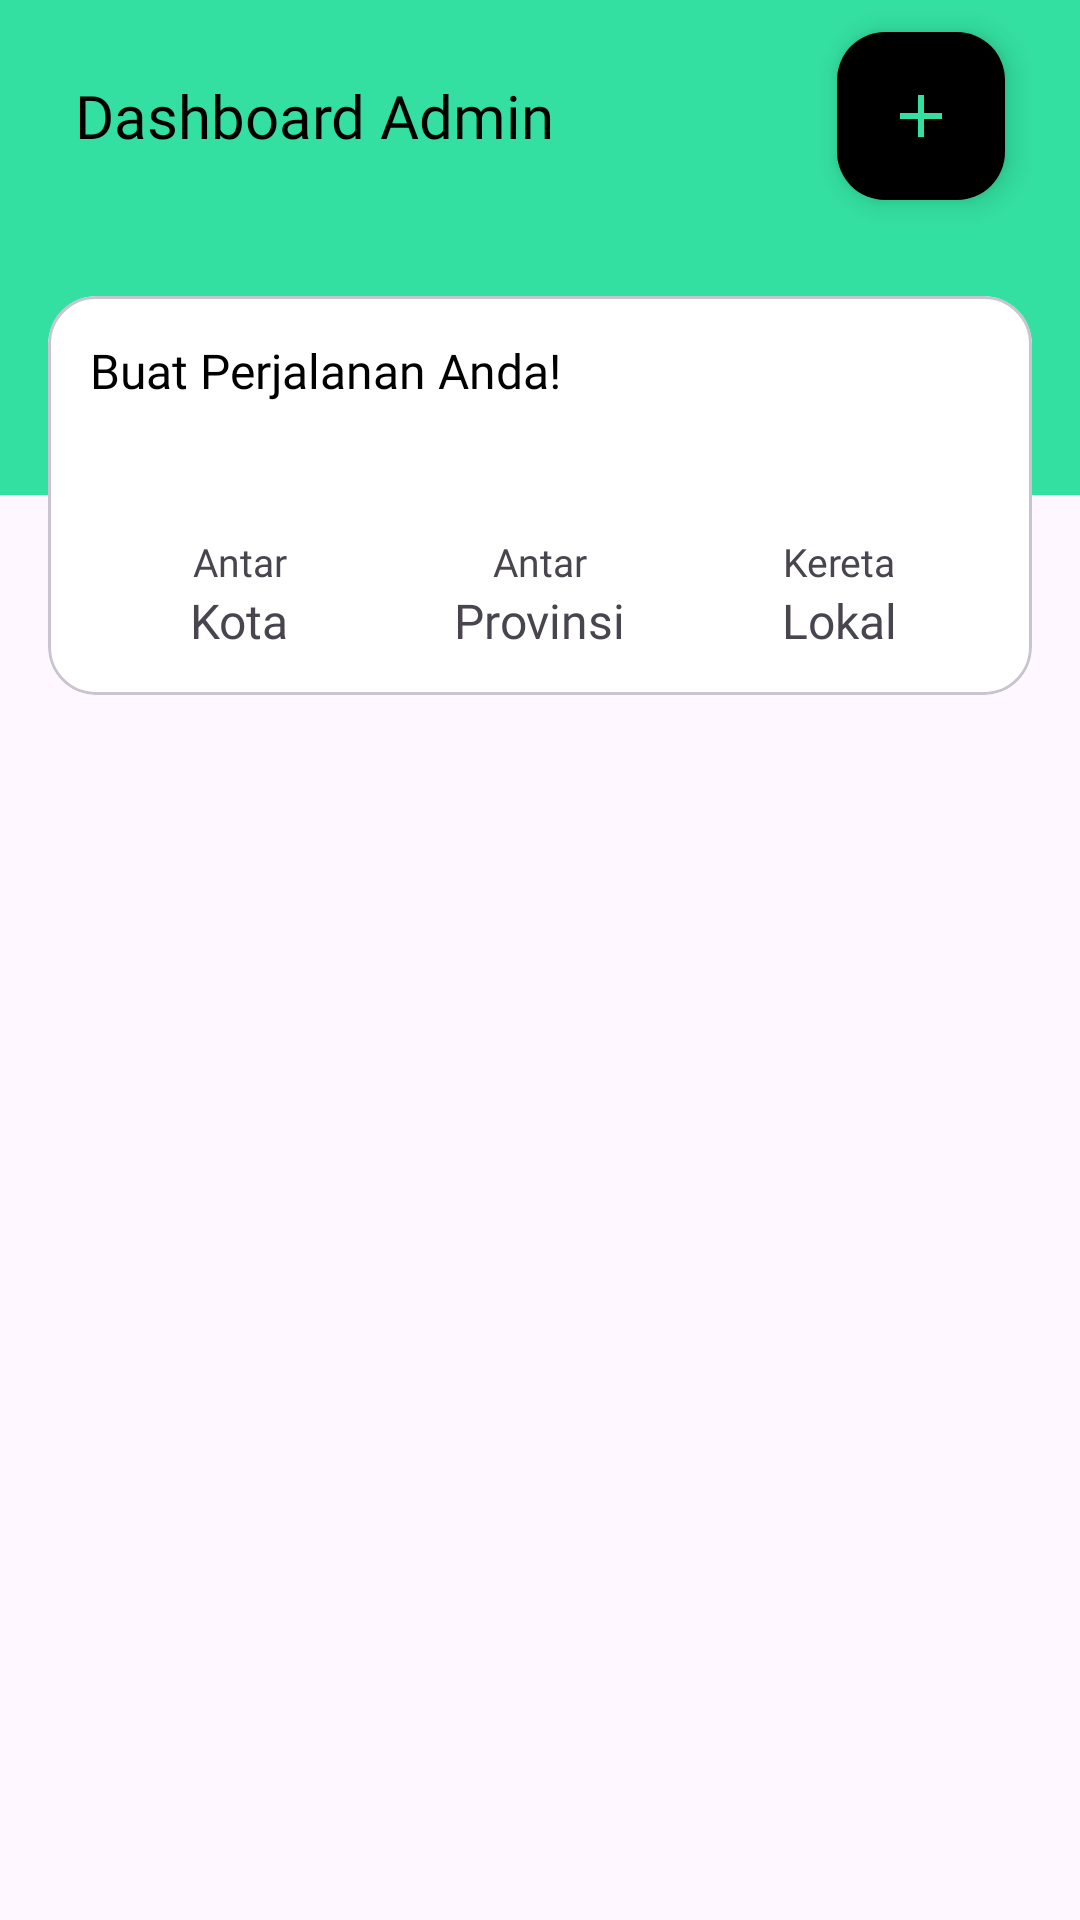

Icon bounding boxes for this 1080 x 1920 phone screenshot, format (x1, y1, x2, y2):
add: (837, 32, 1005, 200)
